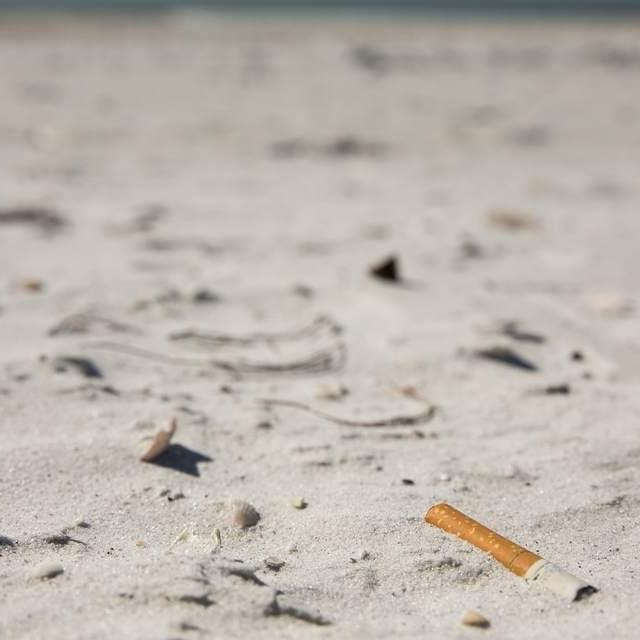Cigarette Butt: (422, 500, 601, 606)
